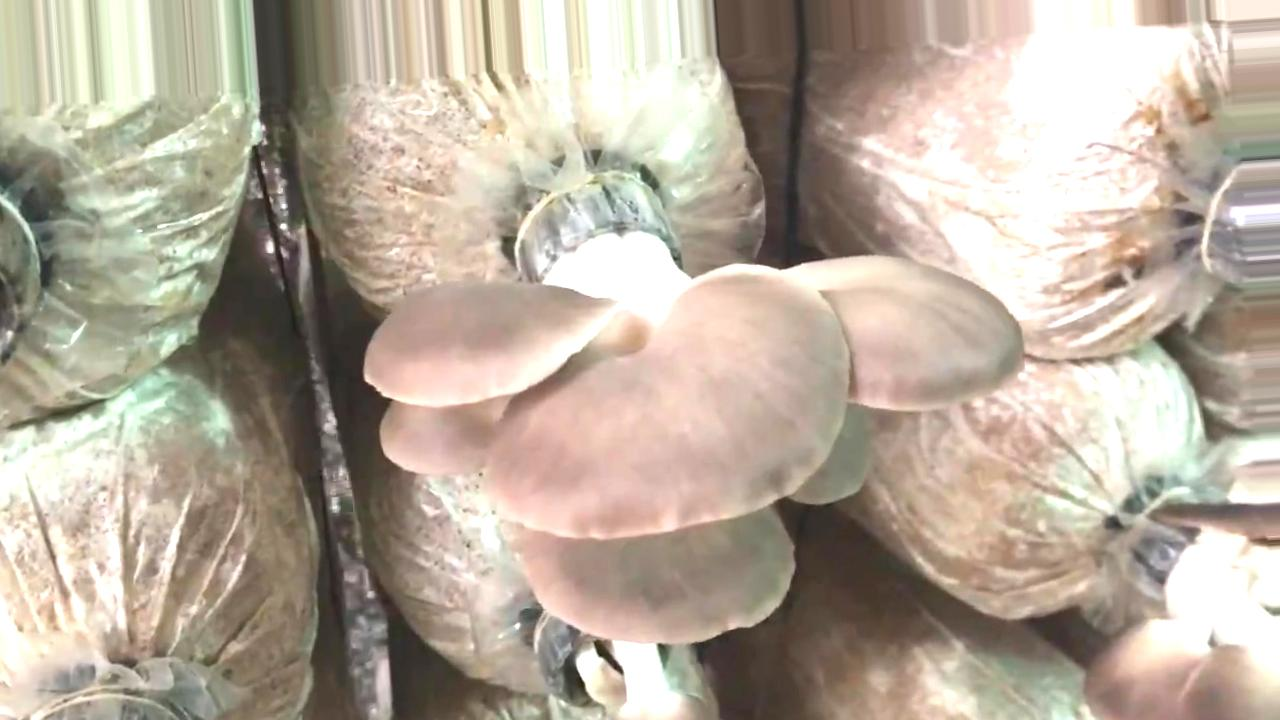nam: (360, 160, 1023, 645), (1084, 480, 1280, 716), (531, 613, 703, 720)
